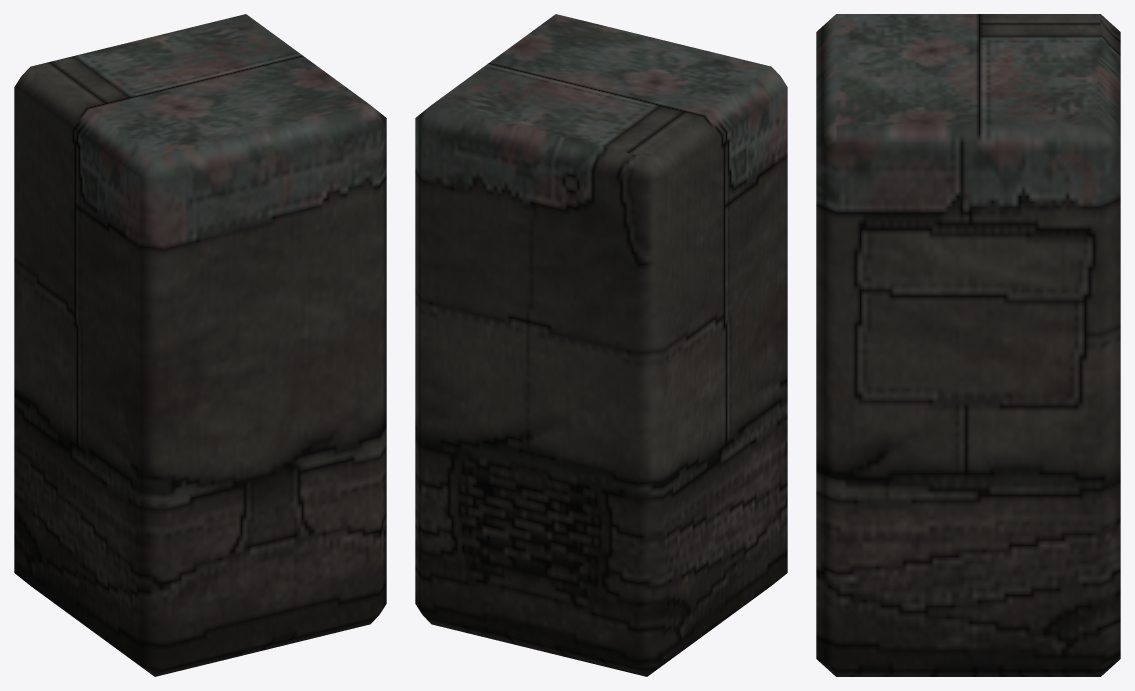
Rendered from ssvean_right_leg.obj.
3 renders of one model, left to right at view 1: azimuth 30°, elevation 25°; view 2: azimuth 150°, elevation 25°; view 3: azimuth 270°, elevation 25°, orthographic. The views are drawn at different scales.
Parts seen in each view (by area): view 1: Ssvean1; view 2: Ssvean1; view 3: Ssvean1.
Part boxes in pixels (x1=…): Ssvean1: x1=14, y1=14, x2=386, y2=676; Ssvean1: x1=415, y1=14, x2=787, y2=676; Ssvean1: x1=816, y1=14, x2=1120, y2=676.
Bounding box in the file's own units: 1 × 2 × 1.
Materials: 1 (1 with a texture image).
